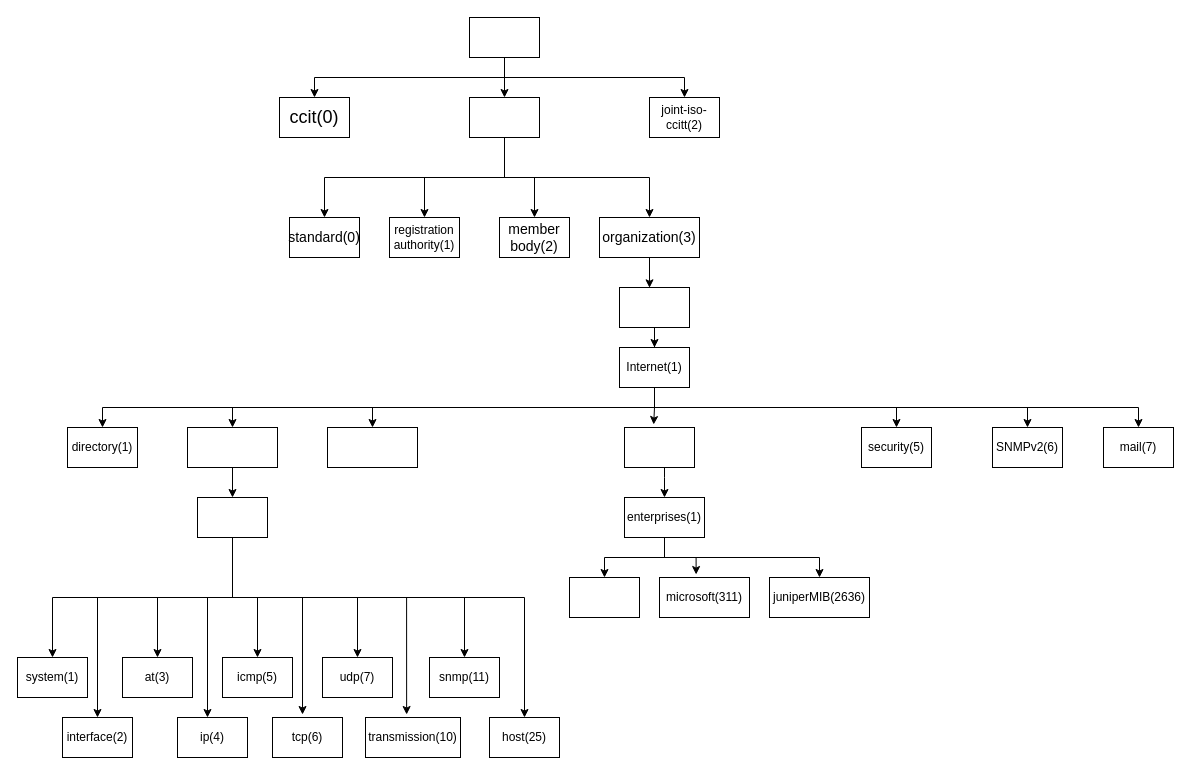
The diagram is 1191 pixels wide and 775 high, and some of its shapes have lost their labels. The shapes that lost their labels are listed below. From the top down, each one's centre as x and y in pixels, then its label:
At pixel 504 37: "Root".
At pixel 504 117: "iso(1)".
At pixel 654 307: "Dod(6)".
At pixel 232 447: "management(2)".
At pixel 372 447: "experimental(3)".
At pixel 659 447: "private(4)".
At pixel 232 517: "MIB-2(1)".
At pixel 604 597: "Cisco(9)".
